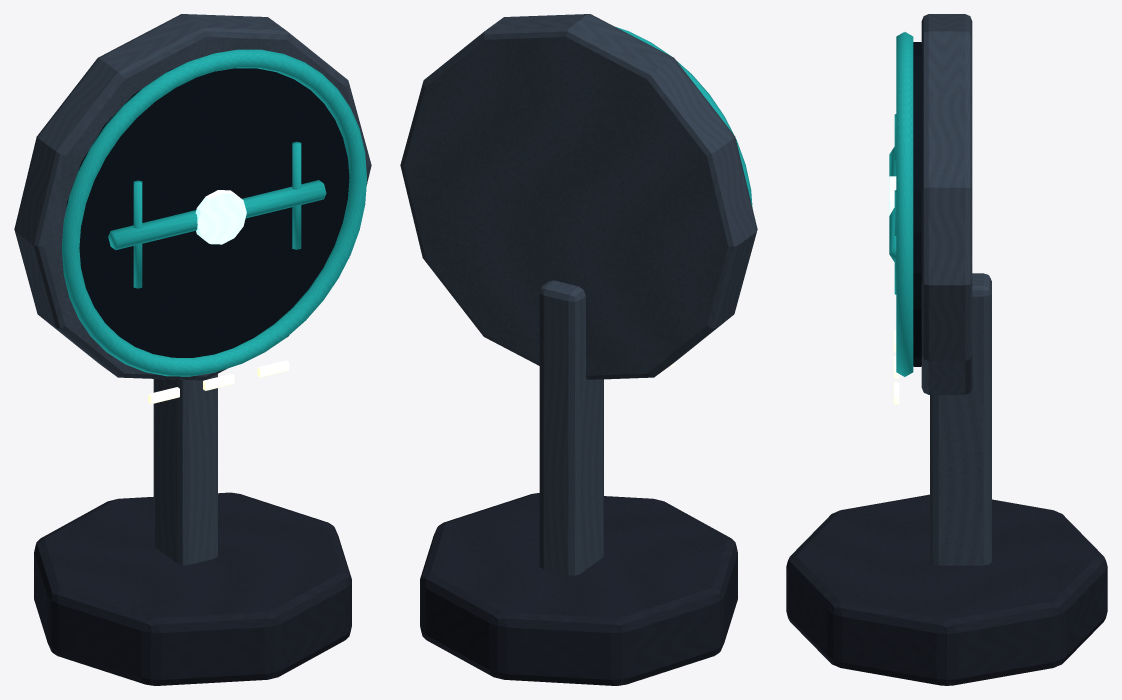
File: TrainingTarget_Laser.fbx
3 views of the same model, side by side, from view 1: azimuth 30°, elevation 25°; view 2: azimuth 150°, elevation 25°; view 3: azimuth 270°, elevation 25° (orthographic).
Parts seen in each view (by area): view 1: SM_TrainingTarget_Laser; view 2: SM_TrainingTarget_Laser; view 3: SM_TrainingTarget_Laser.
Part boxes in pixels (x1,y1,x2,y2): SM_TrainingTarget_Laser: (14,14,371,685); SM_TrainingTarget_Laser: (400,14,757,685); SM_TrainingTarget_Laser: (786,14,1107,685).
Bounding box in the file's own units: 136 × 114 × 232.
1 material, 1 textured.
